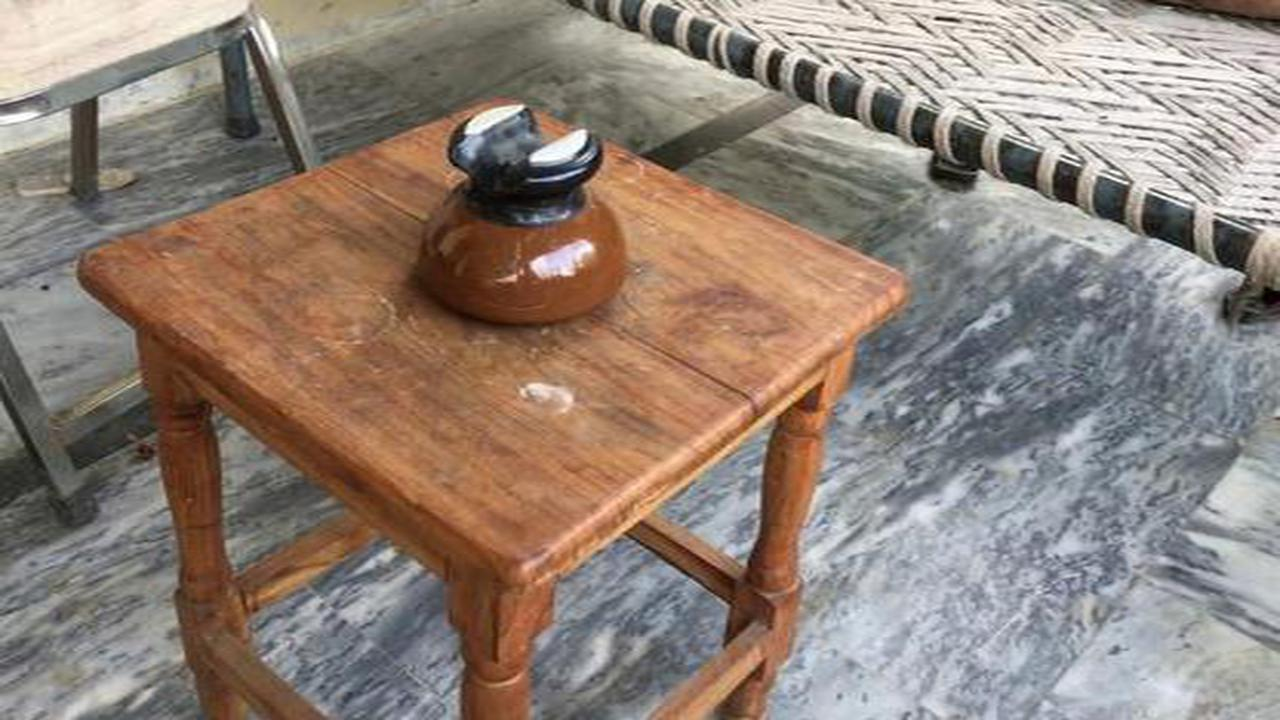insulator_pin: (401, 85, 647, 340)
